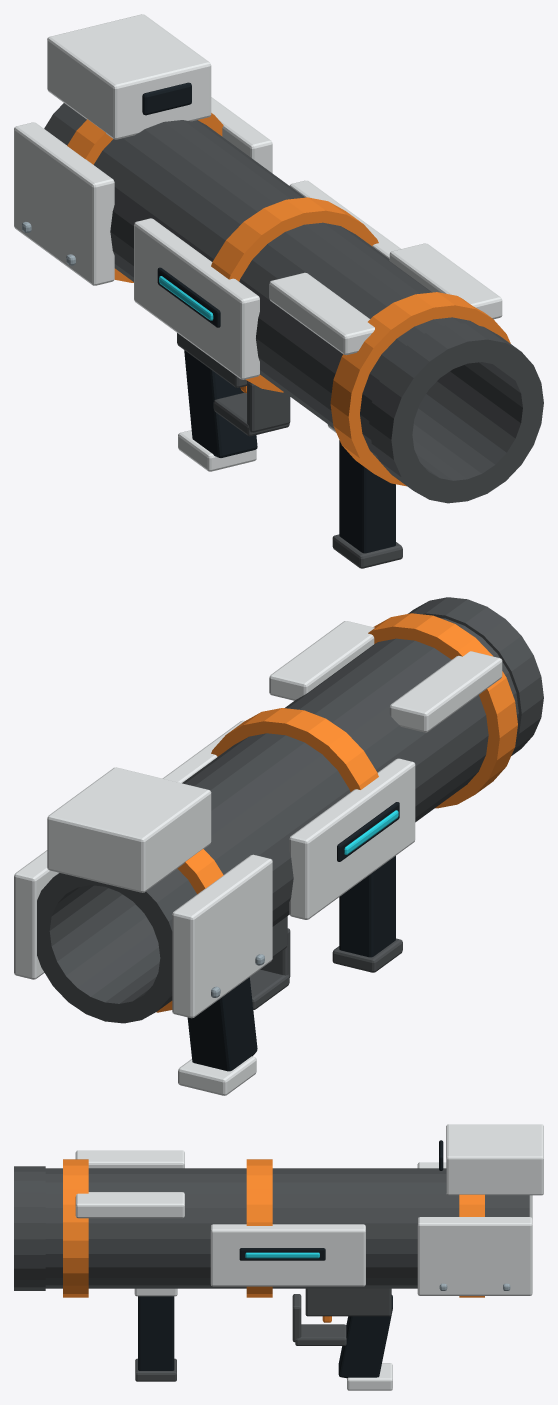
File: pulse-launcher-lod1.glb
3 renders of one model, top to bottom at view 1: azimuth 30°, elevation 25°; view 2: azimuth 150°, elevation 25°; view 3: azimuth 270°, elevation 25°, orthographic. The views are drawn at different scales.
Parts seen in each view (by area): view 1: pulse graphite.001 geometry, pulse white ceramic.001 geometry, pulse orange rings.001 geometry, pulse recessed black.001 geometry; view 2: pulse graphite.001 geometry, pulse white ceramic.001 geometry, pulse orange rings.001 geometry, pulse recessed black.001 geometry; view 3: pulse graphite.001 geometry, pulse white ceramic.001 geometry, pulse recessed black.001 geometry, pulse orange rings.001 geometry, pulse cyan strips.001 geometry.
Part boxes in pixels (x1,y1,x2,y2): pulse graphite.001 geometry: (44,103,543,568); pulse white ceramic.001 geometry: (14,14,502,471); pulse orange rings.001 geometry: (67,113,510,486); pulse recessed black.001 geometry: (142,82,395,553); pulse graphite.001 geometry: (37,597,543,1023); pulse white ceramic.001 geometry: (14,621,502,1095); pulse orange rings.001 geometry: (156,613,517,1012); pulse recessed black.001 geometry: (187,802,399,1071); pulse graphite.001 geometry: (14,1166,529,1381); pulse white ceramic.001 geometry: (75,1124,543,1390); pulse recessed black.001 geometry: (138,1140,443,1378); pulse orange rings.001 geometry: (63,1159,484,1322); pulse cyan strips.001 geometry: (245,1252,319,1258).
Bounding box in the file's own units: 0.28 × 0.4665 × 0.9225.
